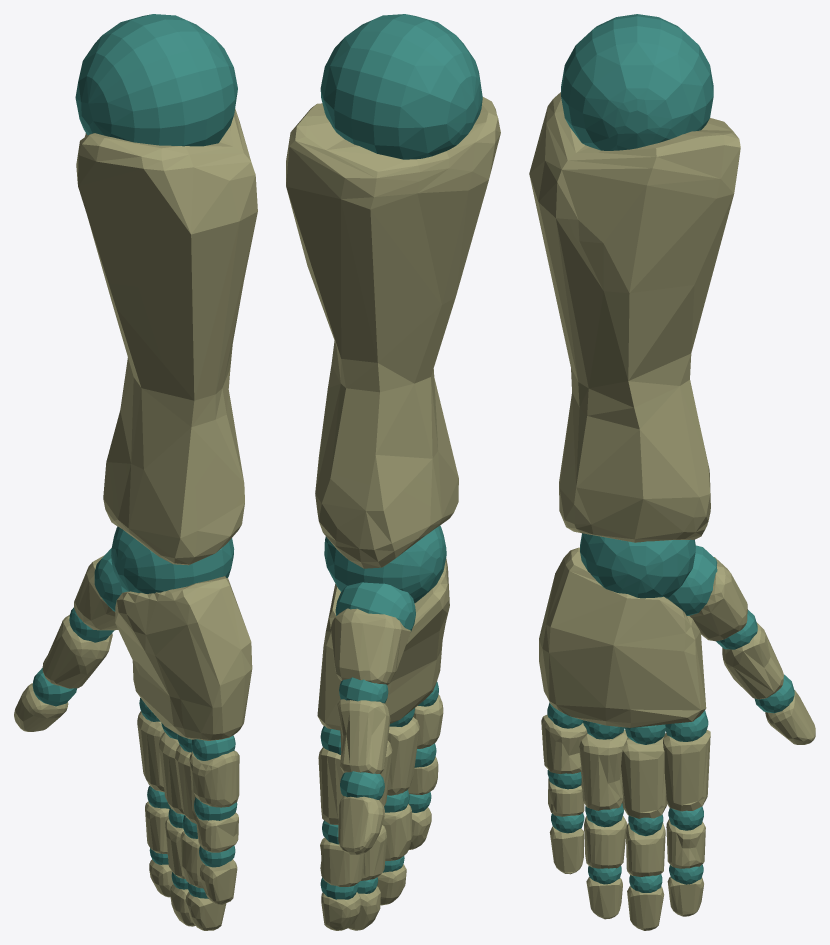
The model's file is manoD.obj.
The picture shows the model from 3 angles, left to right: view 1: azimuth 30°, elevation 25°; view 2: azimuth 150°, elevation 25°; view 3: azimuth 270°, elevation 25°; orthographic projection. The views are drawn at different scales.
Parts seen in each view (by area): view 1: brazoD_Alpha_HighJointsGeo.003; view 2: brazoD_Alpha_HighJointsGeo.003; view 3: brazoD_Alpha_HighJointsGeo.003.
Part boxes in pixels (x1=…): brazoD_Alpha_HighJointsGeo.003: x1=14, y1=14, x2=257, y2=930; brazoD_Alpha_HighJointsGeo.003: x1=286, y1=14, x2=500, y2=930; brazoD_Alpha_HighJointsGeo.003: x1=529, y1=14, x2=815, y2=930.
Bounding box in the file's own units: 1.67 × 8.39 × 2.45.
1 material, 1 textured.
